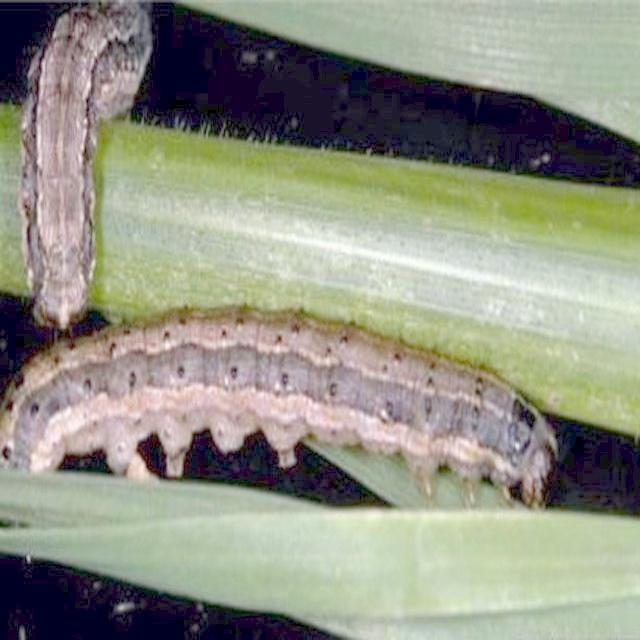Plaga: (4, 310, 561, 508), (25, 14, 115, 326)
